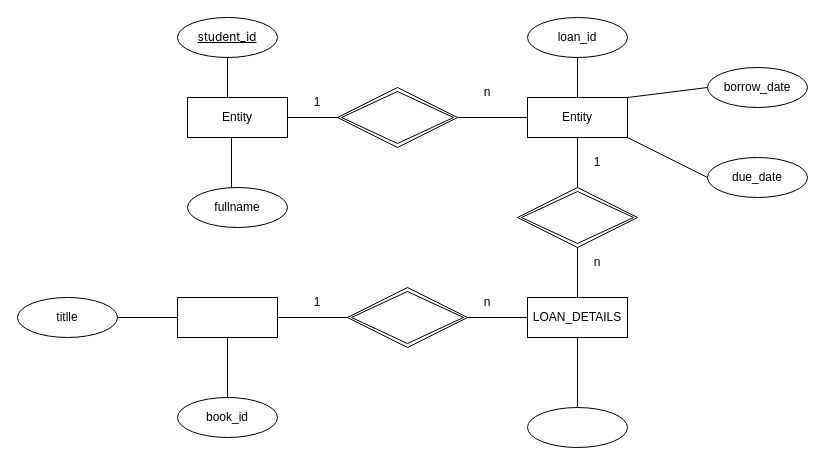
This 825x465 diagram has some shape labels left out. Here are the shapes that lost their labels. From the top down, the centre of each, then its label:
At (397,117): "establish".
At (577,217): "detail".
At (227,317): "books".
At (407,317): "borrowed".
At (577,427): "status".
